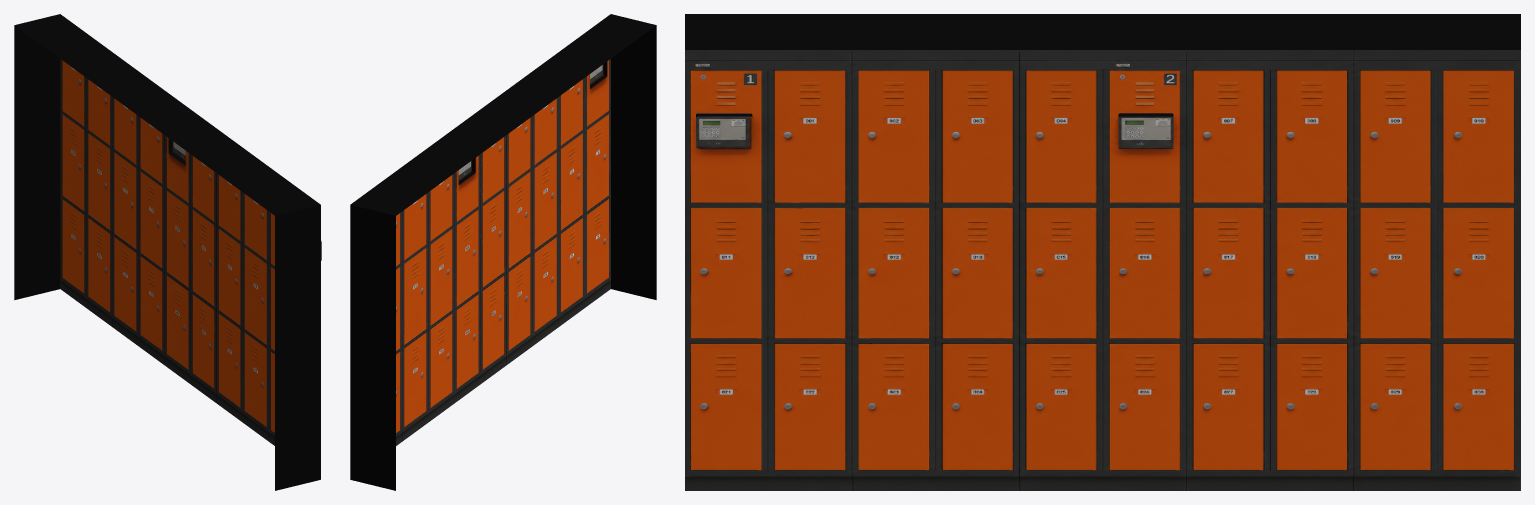
The model's file is orange_lockers.fbx.
The picture shows the model from 3 angles, left to right: view 1: azimuth 30°, elevation 25°; view 2: azimuth 150°, elevation 25°; view 3: azimuth 270°, elevation 25°; orthographic projection. The views are drawn at different scales.
Visible parts, largest first — view 1: lockers; view 2: lockers; view 3: lockers.
Boxes of the visible parts, x1,y1,x2,y2 form: lockers: (14, 14, 321, 490); lockers: (350, 14, 656, 490); lockers: (685, 14, 1520, 490).
Size of the model in its own units: 37.02 by 195 by 335.
